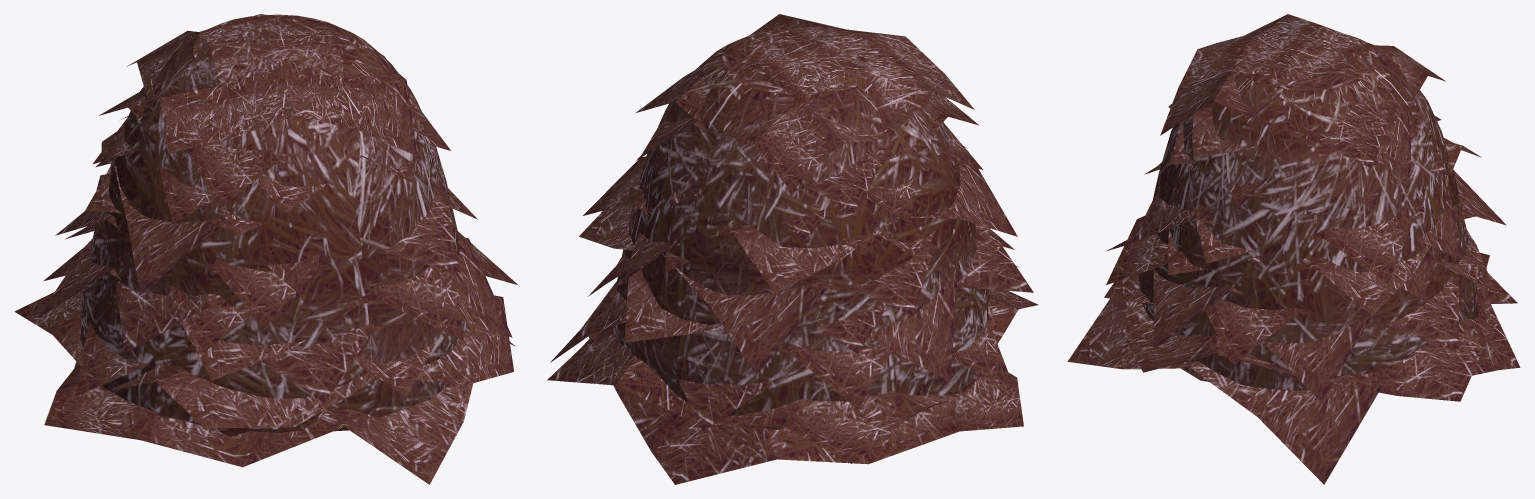
File: Hay BaleTXX.fbx
3 renders of one model, left to right at view 1: azimuth 30°, elevation 25°; view 2: azimuth 150°, elevation 25°; view 3: azimuth 270°, elevation 25°, orthographic. The views are drawn at different scales.
Parts seen in each view (by area): view 1: Hay Bale.003; view 2: Hay Bale.003; view 3: Hay Bale.003.
Part boxes in pixels (x1,y1,x2,y2): Hay Bale.003: [14, 14, 518, 484]; Hay Bale.003: [547, 14, 1038, 484]; Hay Bale.003: [1067, 14, 1520, 484].
Bounding box in the file's own units: 283 × 212 × 265.
Materials: 1 (1 with a texture image).
